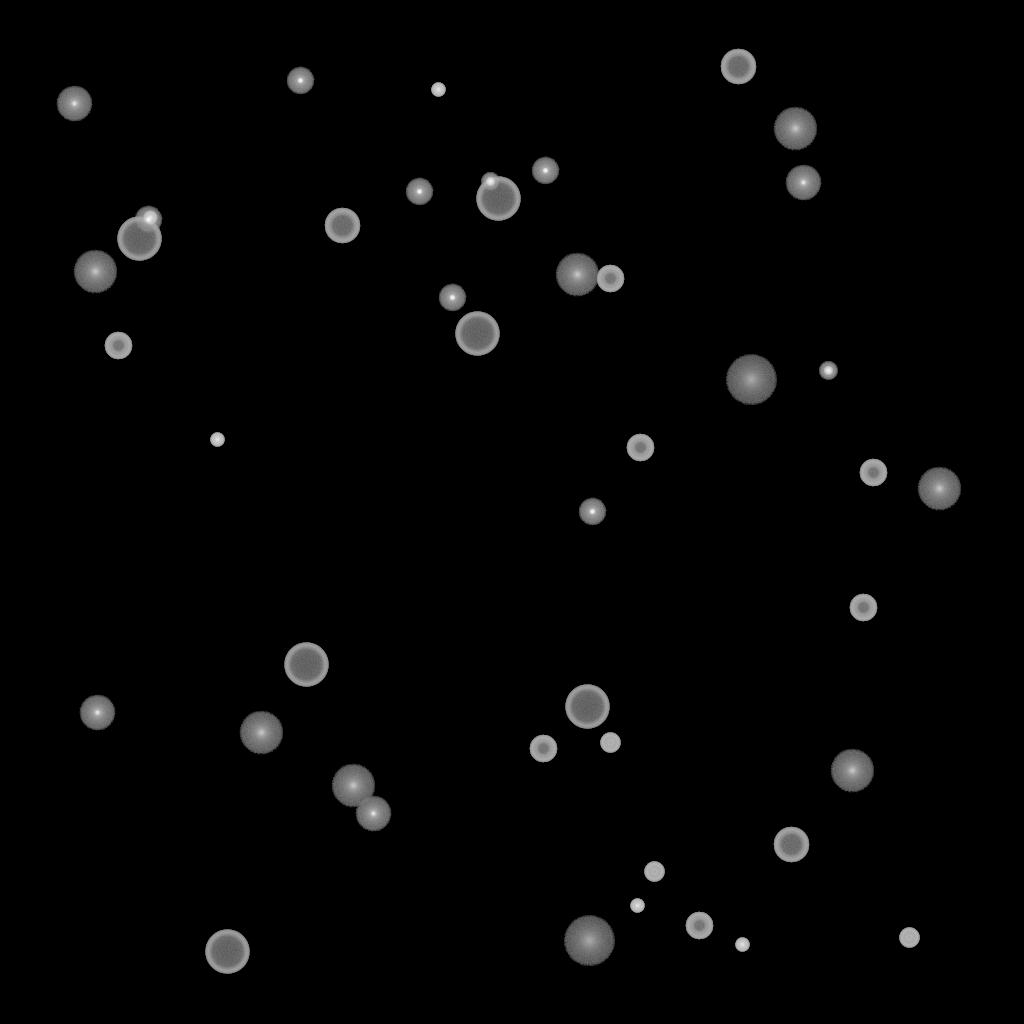depth:-10: (578, 498, 606, 526), (531, 157, 559, 185), (438, 284, 466, 312), (405, 178, 433, 206), (134, 206, 162, 234), (286, 67, 314, 95)
depth:-20: (819, 362, 837, 380), (481, 173, 499, 191)
depth:-30: (431, 83, 445, 97), (735, 938, 749, 952), (143, 211, 157, 225), (210, 433, 224, 447), (630, 899, 644, 913)
depth:-40: (899, 928, 919, 948), (600, 733, 620, 753), (644, 862, 664, 882)
depth:-50: (596, 265, 624, 293), (849, 594, 877, 622), (626, 434, 654, 462), (104, 332, 132, 360), (529, 735, 557, 763), (685, 912, 713, 940), (859, 459, 887, 487)
depth:-60: (720, 49, 756, 85), (773, 827, 809, 863), (324, 208, 360, 244)
depth:-70: (455, 312, 499, 356), (476, 177, 520, 221), (565, 685, 609, 729), (205, 930, 249, 974), (117, 217, 161, 261), (284, 643, 328, 687)
depth:0: (56, 86, 92, 122), (785, 165, 821, 201), (79, 695, 115, 731), (355, 796, 391, 832)
depth:10: (917, 467, 961, 511), (73, 250, 117, 294), (331, 764, 375, 808), (830, 749, 874, 793), (239, 711, 283, 755), (773, 107, 817, 151), (555, 253, 599, 297)
depth:20: (563, 916, 615, 966), (725, 355, 777, 405)
